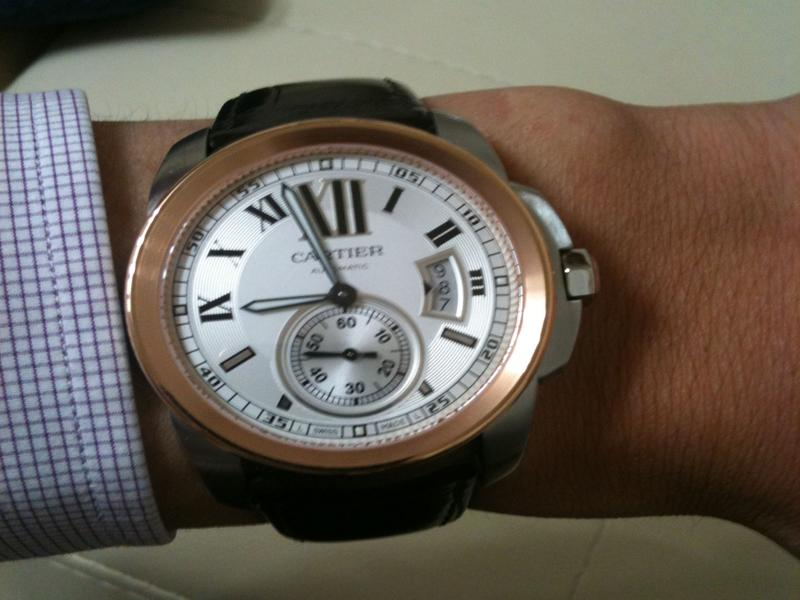watch: (124, 75, 599, 542)
